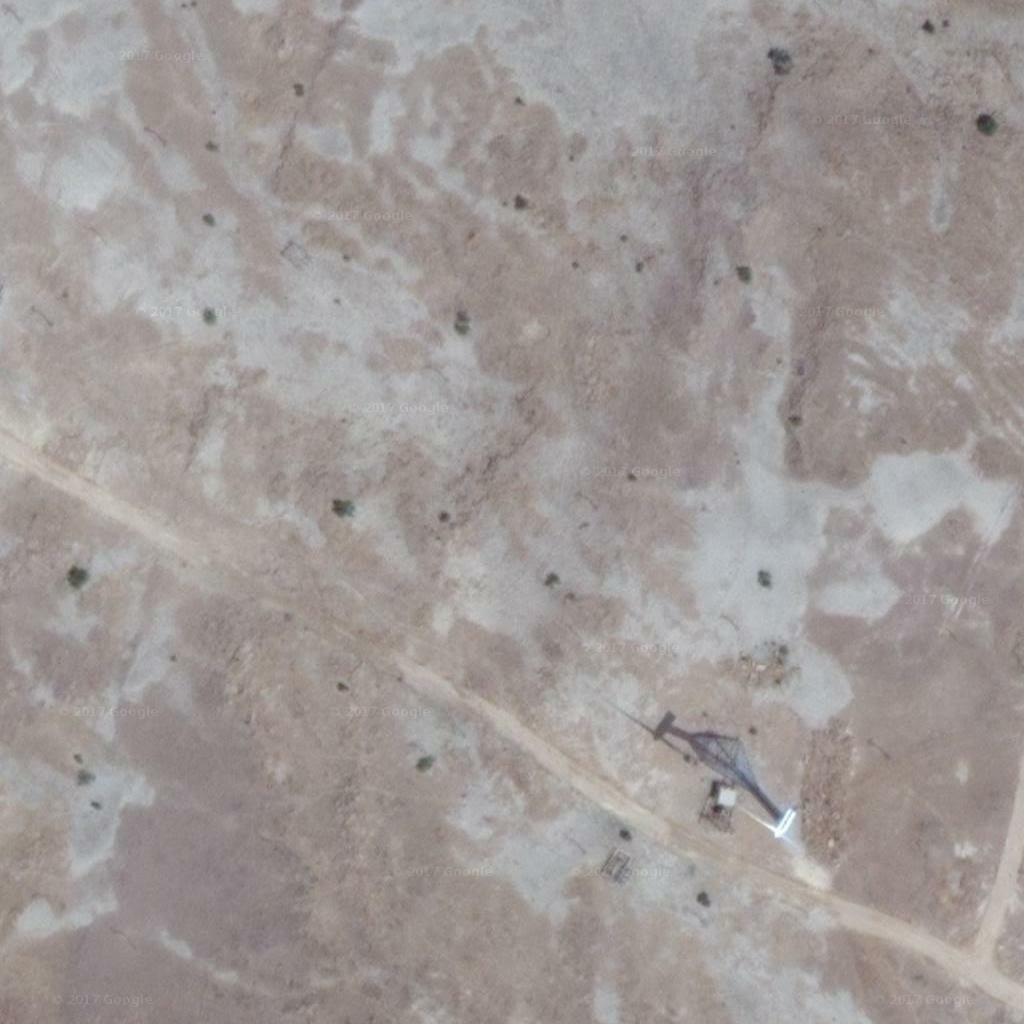Windmill: (129, 666, 143, 669)
